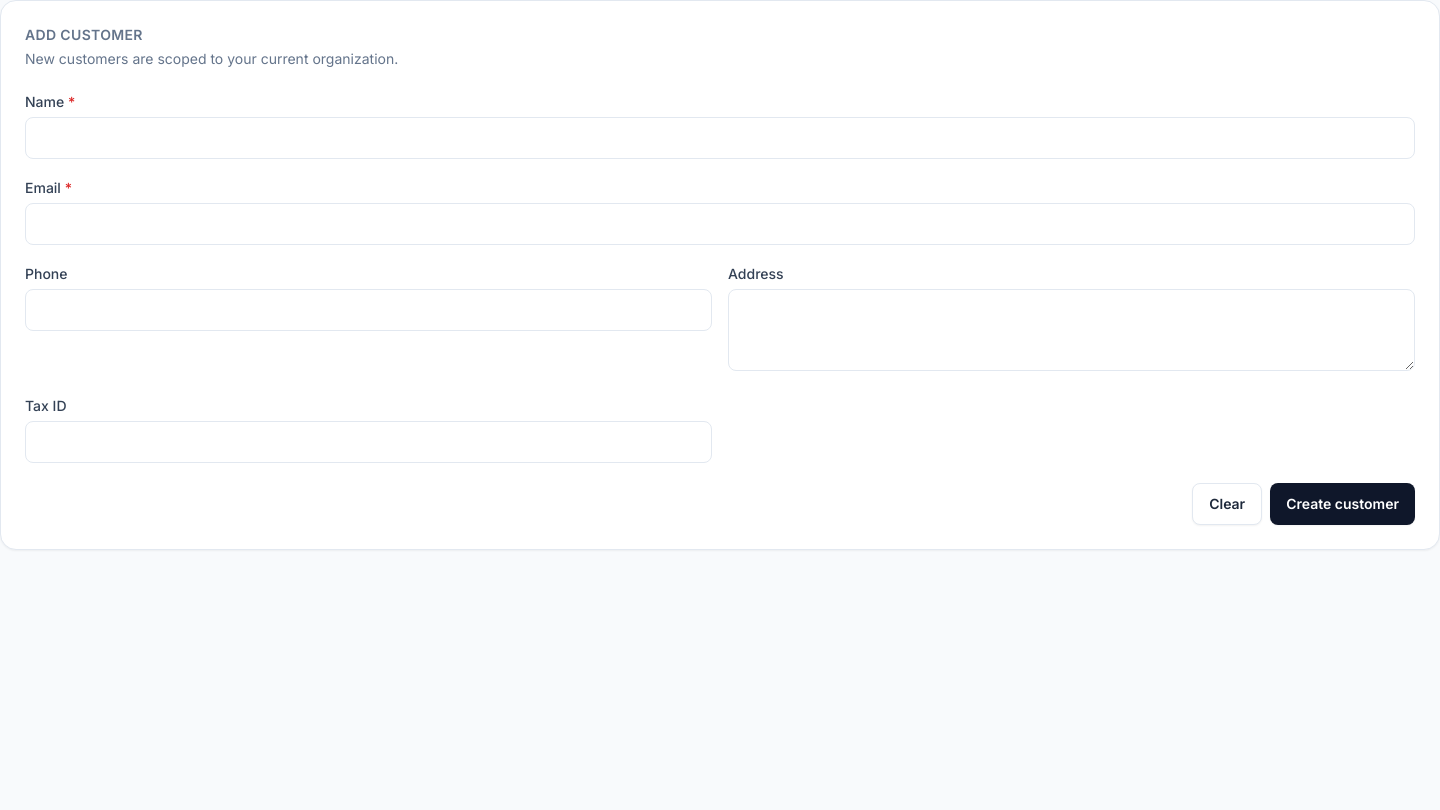
Test: CustomerForm -- Phase UX5 duplicate detection › stops and opens the warning dialog instead of creating -- never creates until 'Create anyway'
In the field labelled "Name *": [720, 138] box top-left (25, 117), bottom-right (1415, 159), type "New Customer"
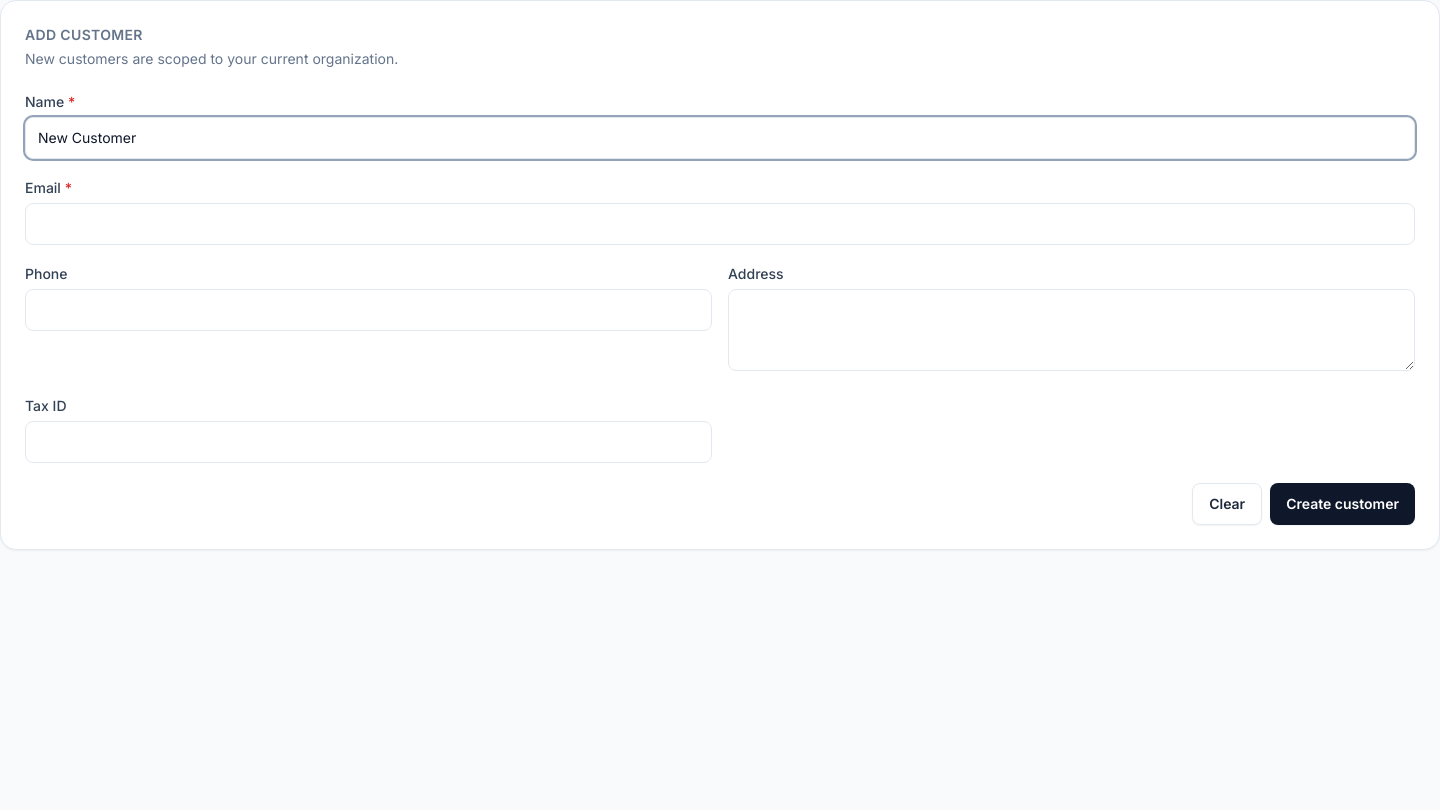
In the field labelled "Email *": [720, 224] box top-left (25, 203), bottom-right (1415, 245), type "new@example.com"
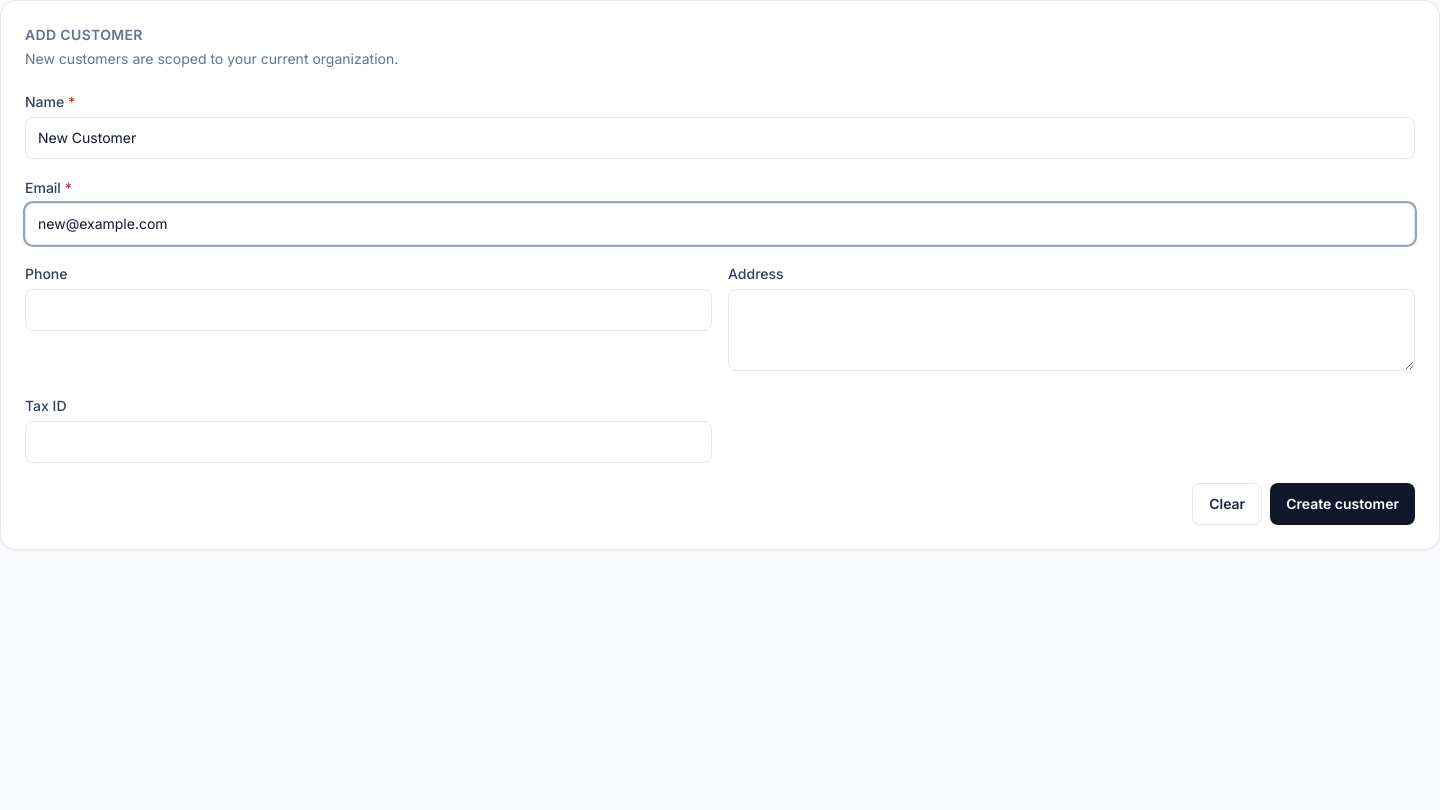
Click the button "Create customer": [1343, 504] box top-left (1270, 483), bottom-right (1415, 525)
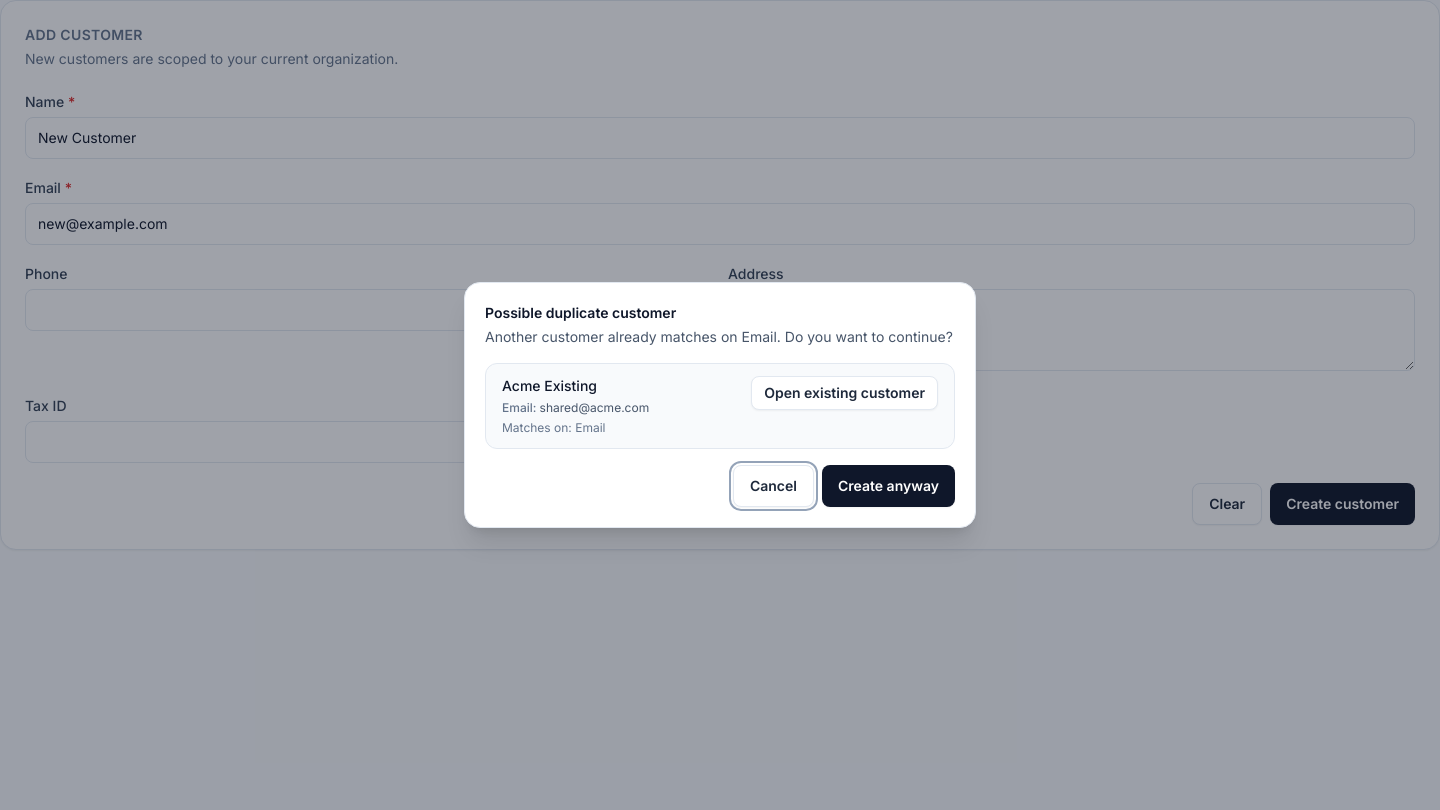
Expected: the dialog is shown, top-left (464, 282), bottom-right (976, 528)
